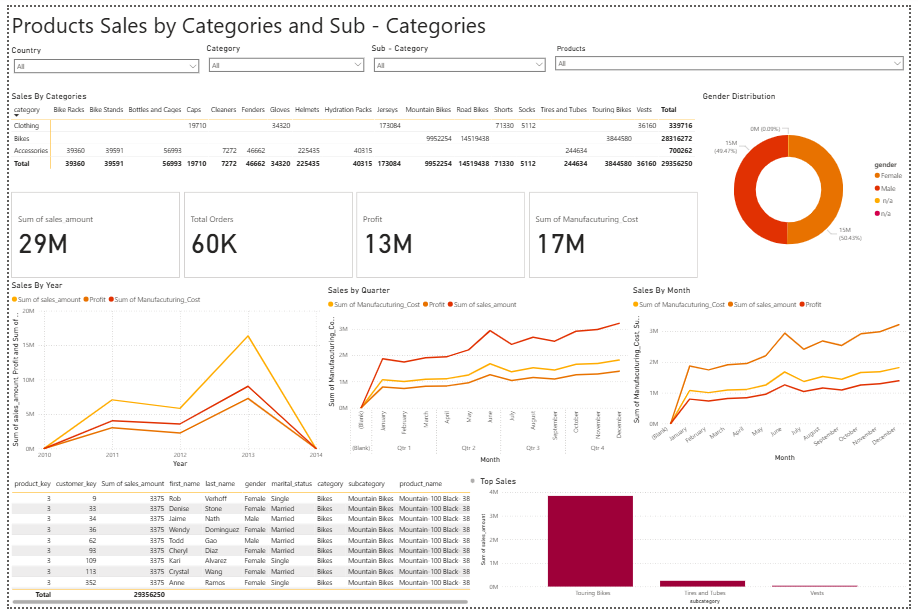

The dashboard page shown, as its layout file describes it:
{"tool":"powerbi","page":{"name":"Product Sales","canvas":[1800,1200],"ordinal":2},"visuals":[{"type":"slicer","title":"Category","fields":{"Values":["gold dim_products.category"]},"box":[390,72.5,330,95],"z":0},{"type":"textbox","box":[0,0,1044,70],"z":1000},{"type":"slicer","title":"Sub - Category","fields":{"Values":["gold dim_products.subcategory"]},"box":[720,72.5,362.5,95],"z":2000},{"type":"slicer","fields":{"Values":["gold dim_products.product_name"]},"box":[1083.3,70,716.7,98.3],"z":3000},{"type":"pivotTable","title":"Sales By Categories","fields":{"Rows":["gold dim_products.category"],"Values":["gold fact_sales.sales_amount"],"Columns":["gold dim_products.subcategory"]},"box":[0,168,1382,182],"z":4000},{"type":"cardVisual","fields":{"Data":["gold fact_sales.sales_amount","gold fact_sales.Total Orders","gold fact_sales.Profit","gold fact_sales.Manufacuturing_Cost"]},"box":[0,364,1382,182],"z":5000},{"type":"lineChart","title":"Sales By Year","fields":{"Y":["gold fact_sales.sales_amount","gold fact_sales.Profit","gold fact_sales.Manufacuturing_Cost"],"Category":["gold fact_sales.order_date.Variation.Date Hierarchy.Year"]},"box":[0,546,632,382],"z":6000},{"type":"lineChart","title":"Sales by Quarter","fields":{"Y":["gold fact_sales.Manufacuturing_Cost","gold fact_sales.Profit","gold fact_sales.sales_amount"],"Category":["gold fact_sales.order_date.Variation.Date Hierarchy.Quarter","gold fact_sales.order_date.Variation.Date Hierarchy.Month"]},"box":[632.5,555,610,362.5],"z":7000},{"type":"lineChart","title":"Sales By Month","fields":{"Category":["gold fact_sales.order_date.Variation.Date Hierarchy.Month"],"Y":["gold fact_sales.Manufacuturing_Cost","gold fact_sales.sales_amount","gold fact_sales.Profit"]},"box":[1242.5,555,557.5,360],"z":8000},{"type":"donutChart","title":"Gender Distribution","fields":{"Category":["gold dim_customers.gender"],"Y":["gold fact_sales.sales_amount"]},"box":[1381.7,168.3,418.3,376.7],"z":9000},{"type":"tableEx","fields":{"Values":["gold fact_sales.product_key","gold fact_sales.customer_key","gold fact_sales.sales_amount","gold dim_customers.first_name","gold dim_customers.last_name","gold dim_customers.gender","gold dim_customers.marital_status","gold dim_products.category","gold dim_products.subcategory","gold dim_products.product_name"]},"box":[0,938.3,936.7,261.7],"z":10000},{"type":"clusteredColumnChart","title":"Top Sales","fields":{"Category":["gold dim_products.subcategory"],"Y":["gold fact_sales.sales_amount"]},"box":[936.7,938.3,863.3,261.7],"z":11000},{"type":"slicer","title":"Country","fields":{"Values":["gold dim_customers.country"]},"box":[0,75,390,92.5],"z":11001}]}

Visuals, with their boxes in screenshot pixels (x1, y1, x2, y2), scaled from the page's 1800x1200 canvas onto the 918x610 screenshot:
"Category" slicer: 199,37,367,85
textbox: 0,0,532,36
"Sub - Category" slicer: 367,37,552,85
slicer - gold dim_products.product_name: 552,36,917,86
"Sales By Categories" pivotTable: 0,85,705,178
cardVisual - gold fact_sales.sales_amount x gold fact_sales.Total Orders: 0,185,705,278
"Sales By Year" lineChart: 0,278,322,472
"Sales by Quarter" lineChart: 323,282,634,466
"Sales By Month" lineChart: 634,282,917,465
"Gender Distribution" donutChart: 705,86,917,277
tableEx - gold fact_sales.product_key x gold fact_sales.customer_key: 0,477,478,609
"Top Sales" clusteredColumnChart: 478,477,917,609
"Country" slicer: 0,38,199,85
